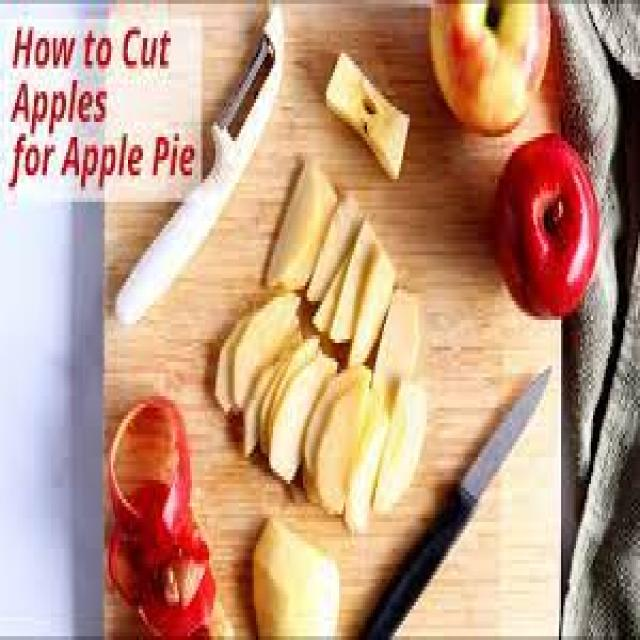Apple: (492, 135, 598, 321), (430, 0, 550, 126), (243, 509, 339, 640), (324, 50, 408, 179), (228, 297, 295, 399), (265, 162, 320, 280), (378, 374, 424, 506), (270, 357, 320, 466), (314, 387, 356, 512), (351, 252, 390, 360)
